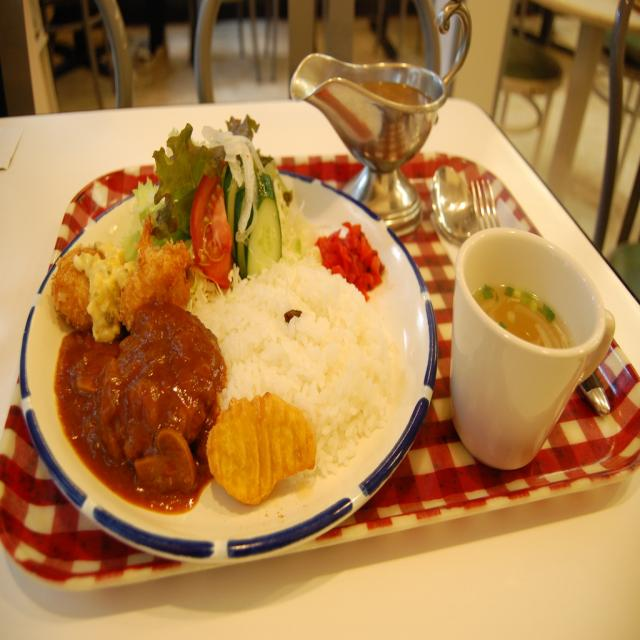Tea: (474, 285, 576, 351)
